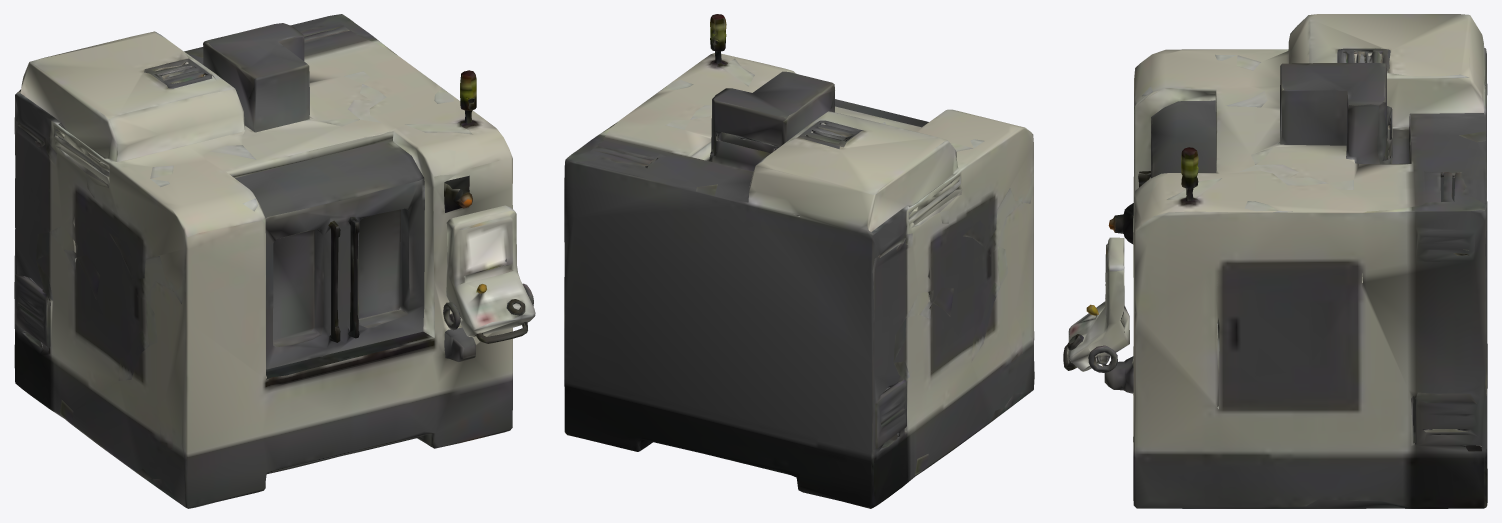
File: cnc_mill.glb
3 renders of one model, left to right at view 1: azimuth 30°, elevation 25°; view 2: azimuth 150°, elevation 25°; view 3: azimuth 270°, elevation 25°, orthographic. The views are drawn at different scales.
Visible parts, largest first — view 1: geometry_0; view 2: geometry_0; view 3: geometry_0.
Part boxes in pixels (bbox=[...]): geometry_0: bbox=[14, 14, 535, 508]; geometry_0: bbox=[564, 14, 1034, 508]; geometry_0: bbox=[1063, 14, 1487, 508].
Bounding box in the file's own units: 0.9249 × 0.9288 × 0.9958.
1 material, 1 textured.
